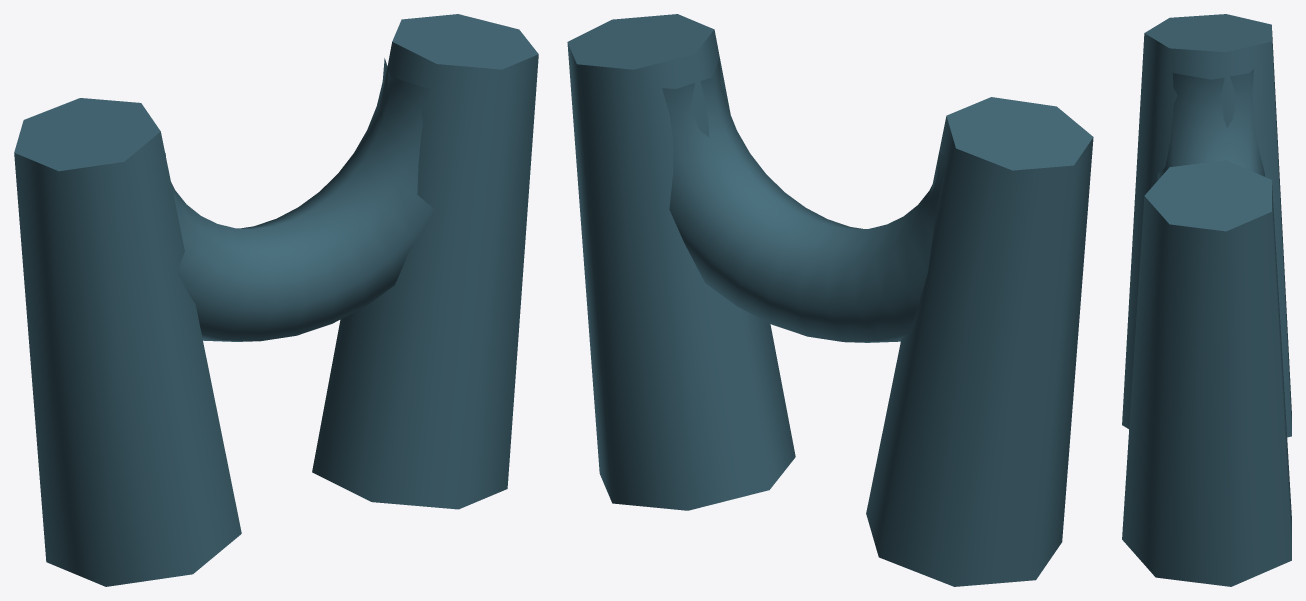
File: reef-arch.glb
The picture shows the model from 3 angles, left to right: view 1: azimuth 30°, elevation 25°; view 2: azimuth 150°, elevation 25°; view 3: azimuth 270°, elevation 25°; orthographic projection. The views are drawn at different scales.
Size of the model in its own units: 6.91 by 5.73 by 2.28.
